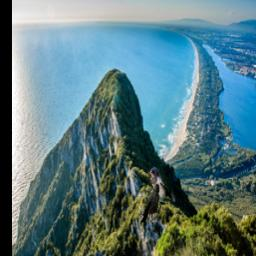Crow: (139, 184, 159, 224)
Swallow: (147, 168, 175, 203)
